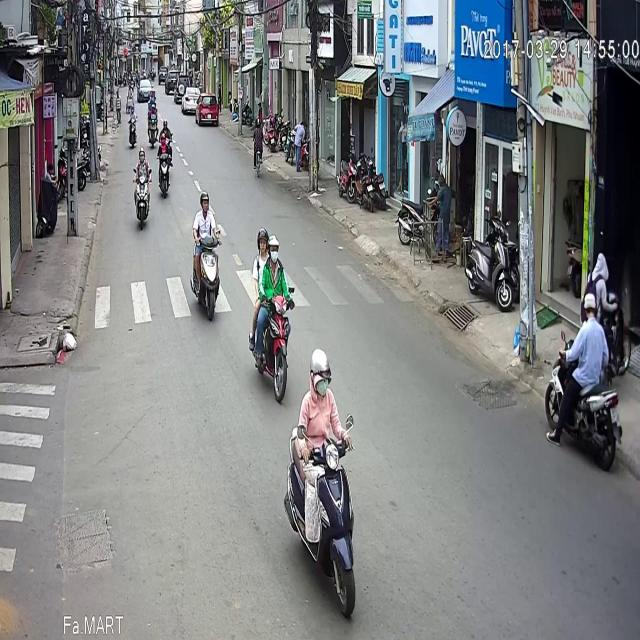bicycle: (251, 60, 263, 120)
car: (196, 34, 220, 68)
motorcycle: (285, 286, 357, 609), (545, 238, 621, 411), (248, 166, 294, 350), (190, 132, 222, 262), (131, 86, 152, 174), (157, 75, 170, 141), (159, 58, 174, 108), (146, 46, 159, 92), (128, 47, 138, 90)
